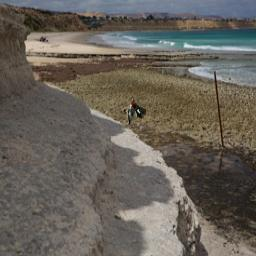Woodpecker: (124, 97, 147, 125)
